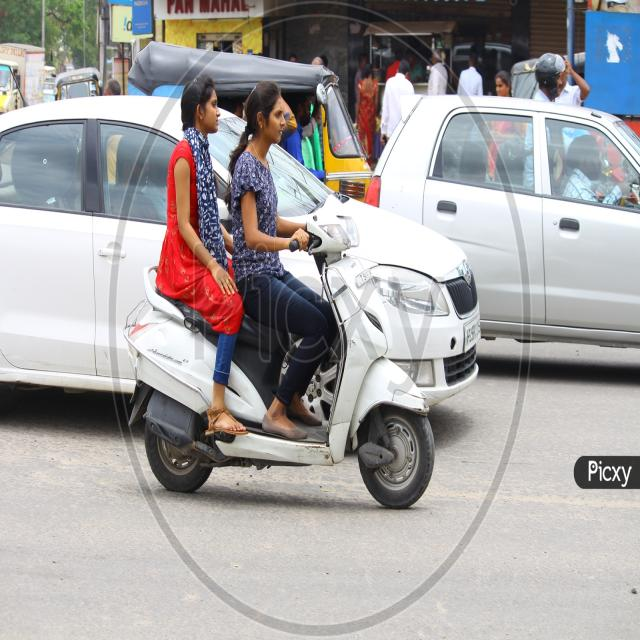car: (370, 96, 640, 347)
motorcycle: (124, 75, 434, 508)
